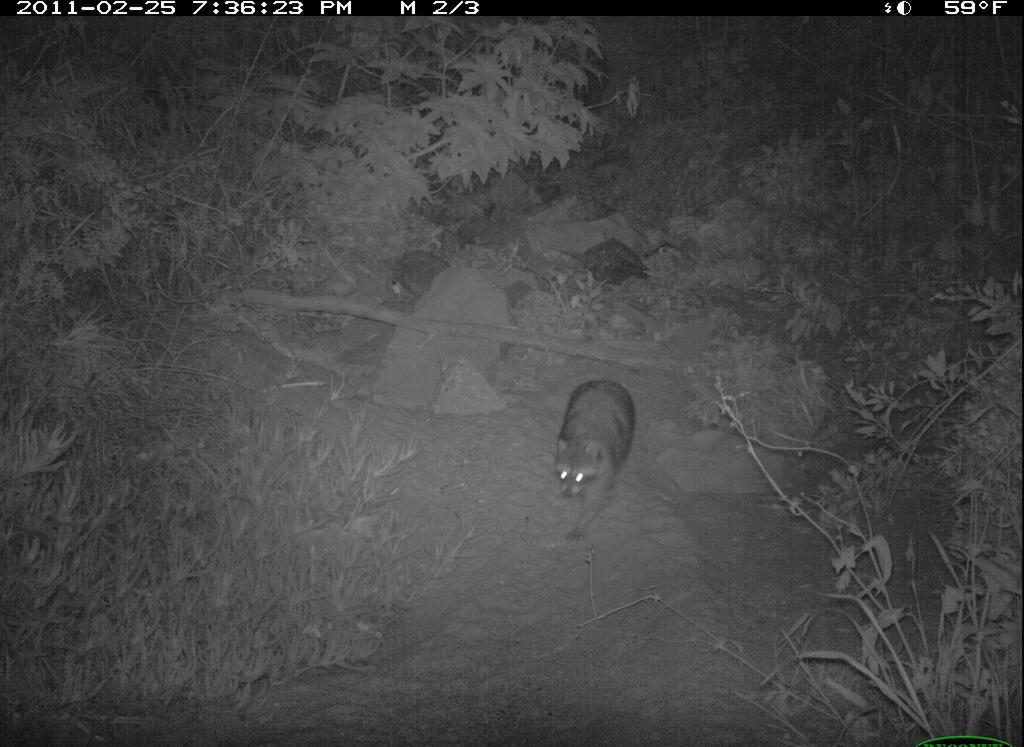raccoon: (557, 374, 643, 552)
